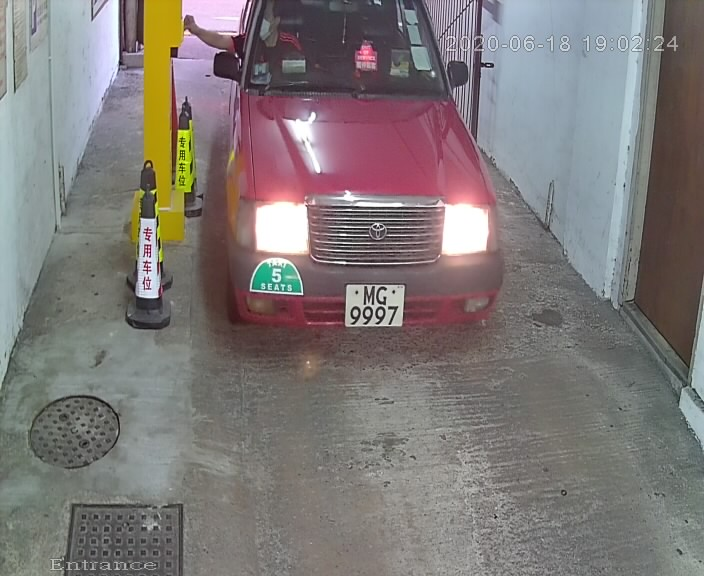taxi: (202, 2, 509, 374)
taxi_mark: (243, 245, 310, 303)
